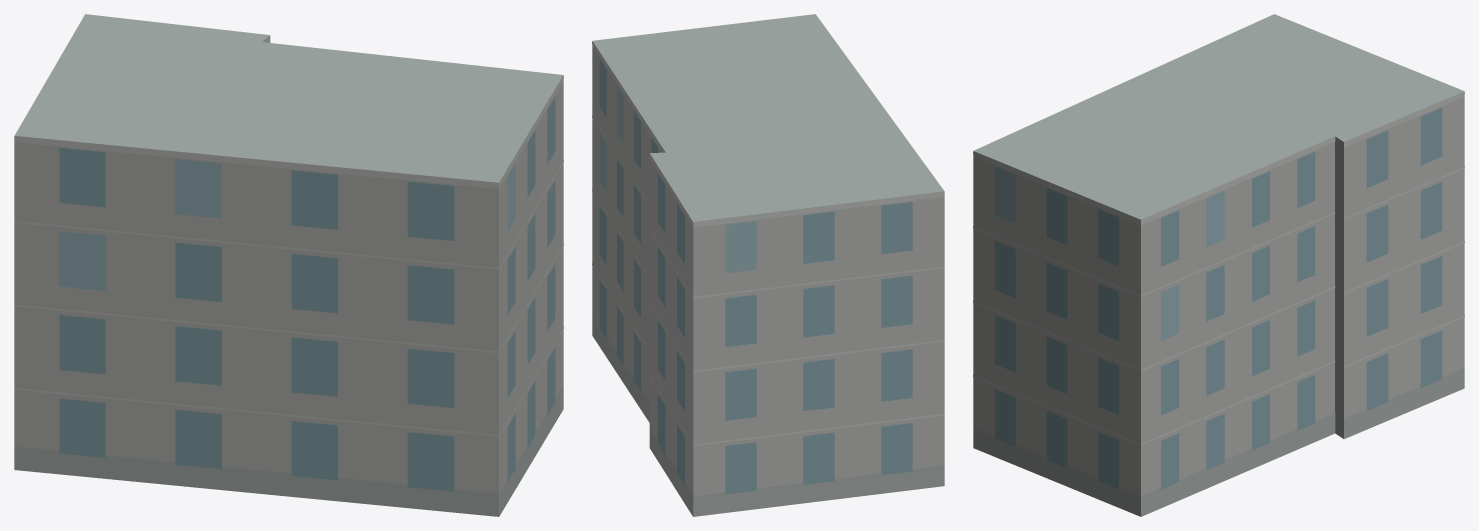
The model's file is survey-upis-33019171.glb.
3 views of the same model, side by side, from view 1: azimuth 30°, elevation 25°; view 2: azimuth 150°, elevation 25°; view 3: azimuth 270°, elevation 25° (orthographic). The views are drawn at different scales.
Parts seen in each view (by area): view 1: survey-upis-33019171.tmp; view 2: survey-upis-33019171.tmp; view 3: survey-upis-33019171.tmp.
Boxes of the visible parts, x1=… form: survey-upis-33019171.tmp: x1=14, y1=14, x2=563, y2=516; survey-upis-33019171.tmp: x1=592, y1=14, x2=944, y2=516; survey-upis-33019171.tmp: x1=973, y1=14, x2=1464, y2=516.
Size of the model in its own units: 18.88 by 12.7 by 19.05.
